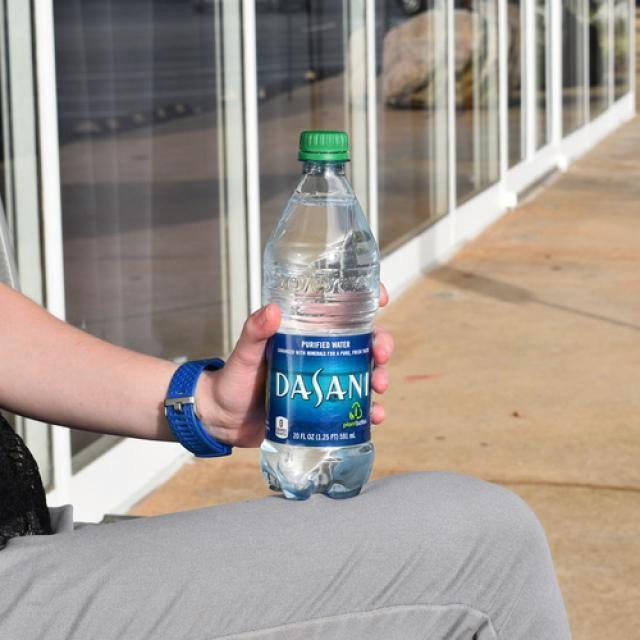bottle: (260, 130, 382, 501)
